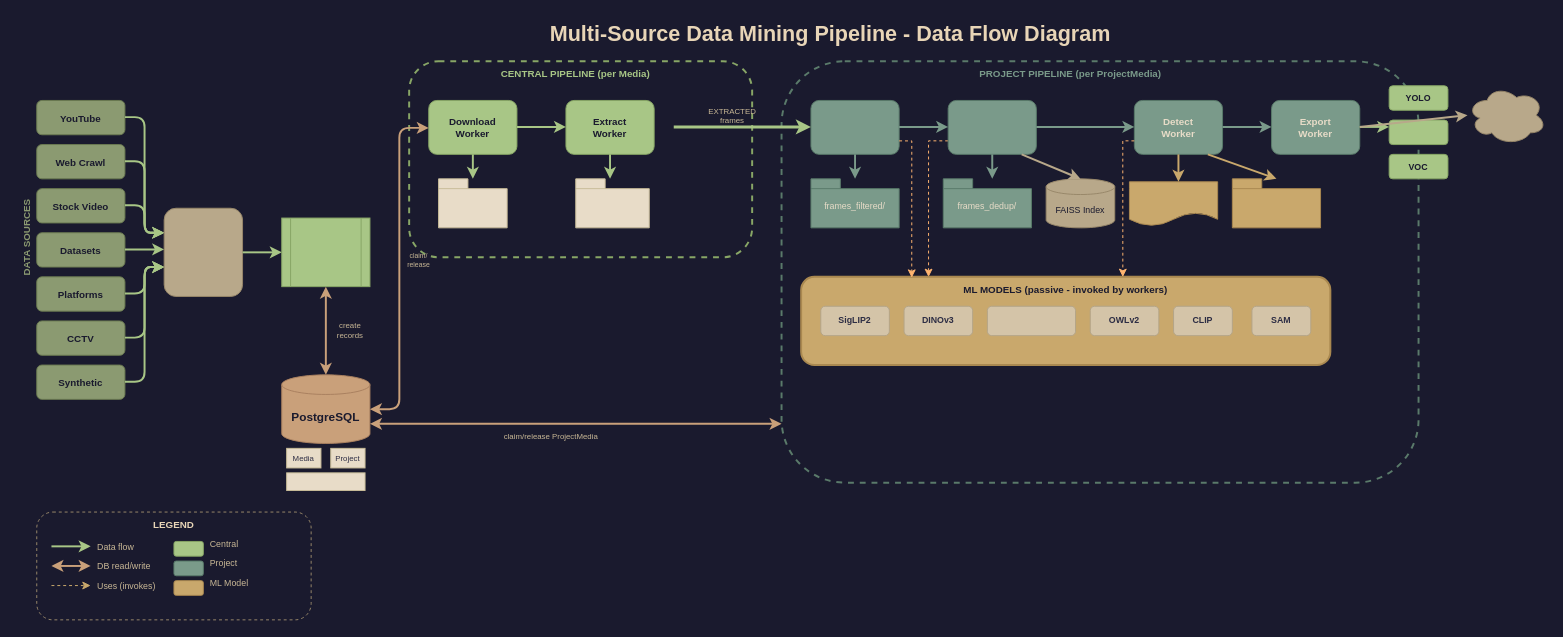
This 1563x637 diagram has some shape labels left out. Each missing label, with the centre of its shape:
"annotations.json" belongs at (1173,203).
"Cloud Storage" belongs at (1506,115).
"COCO" belongs at (1418,132).
"Cross-Dedup Worker" belongs at (991,126).
"Filter Worker" belongs at (854,126).
"frames_raw/" belongs at (612,203).
"GroundingDINO" belongs at (1031,320).
"Ingestion Queue" belongs at (325,252).
"ProjMedia" belongs at (325,481).
"Source Adapters" belongs at (203,251).
"videos/" belongs at (472,203).
"visualizations/" belongs at (1276,203).
